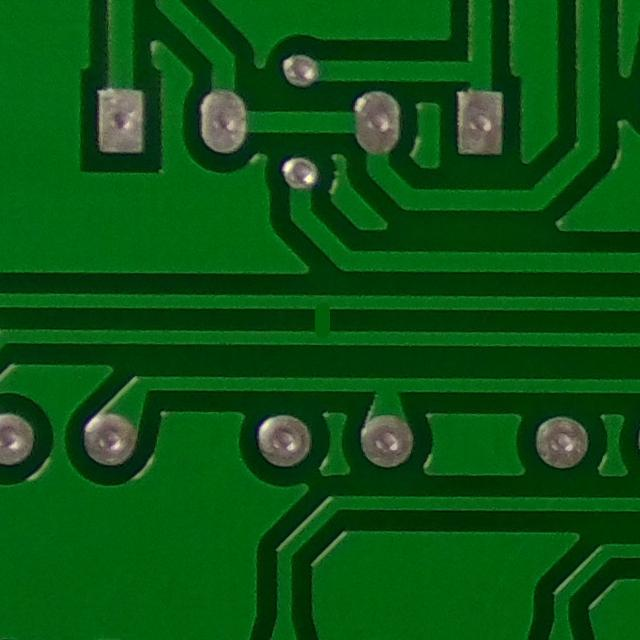short: (294, 285, 347, 356)
